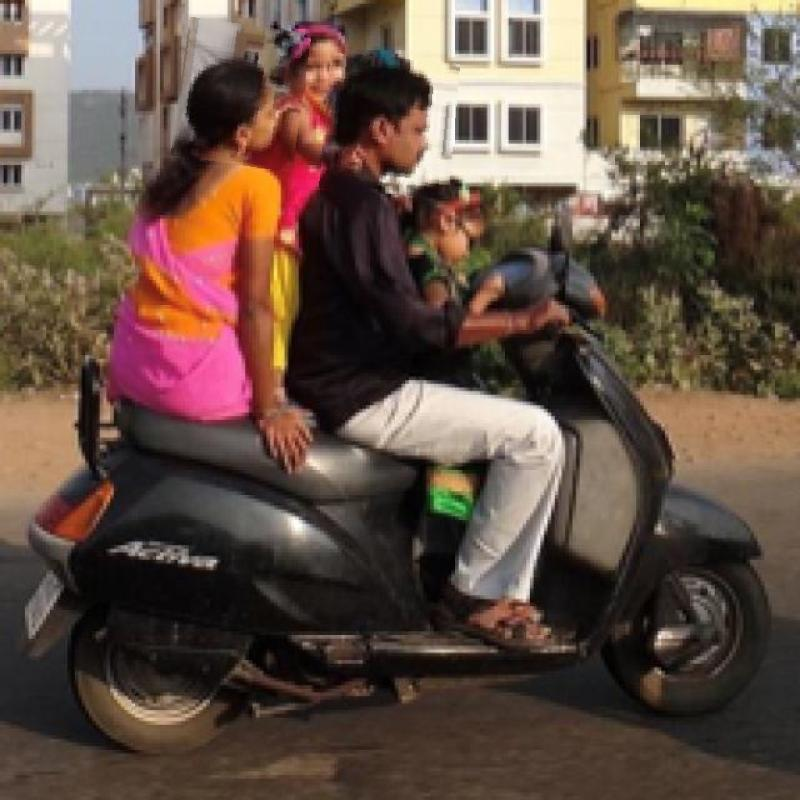nohelmet: (174, 20, 306, 168), (322, 56, 458, 196)
